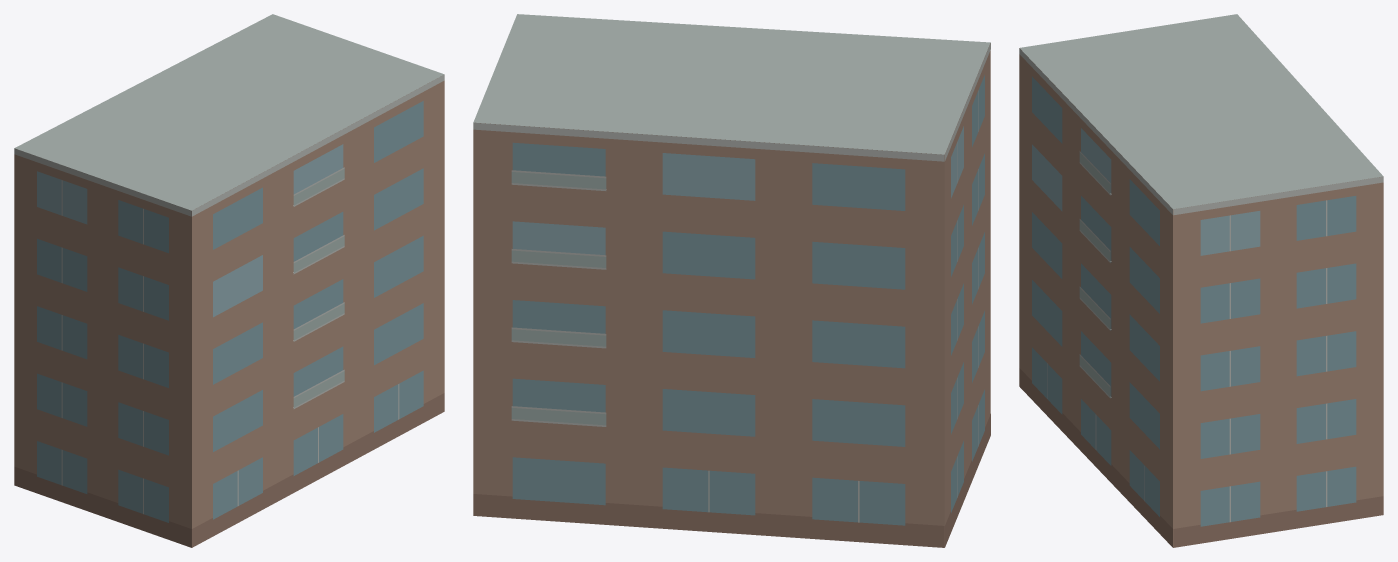
The model's file is survey-upis-32944710.glb.
3 renders of one model, left to right at view 1: azimuth 30°, elevation 25°; view 2: azimuth 150°, elevation 25°; view 3: azimuth 270°, elevation 25°, orthographic. The views are drawn at different scales.
Parts seen in each view (by area): view 1: survey-upis-32944710.tmp; view 2: survey-upis-32944710.tmp; view 3: survey-upis-32944710.tmp.
Boxes of the visible parts, x1=… form: survey-upis-32944710.tmp: x1=14, y1=14, x2=444, y2=547; survey-upis-32944710.tmp: x1=473, y1=14, x2=990, y2=547; survey-upis-32944710.tmp: x1=1019, y1=14, x2=1383, y2=547.
Bounding box in the file's own units: 16.89 × 13.65 × 13.32.
